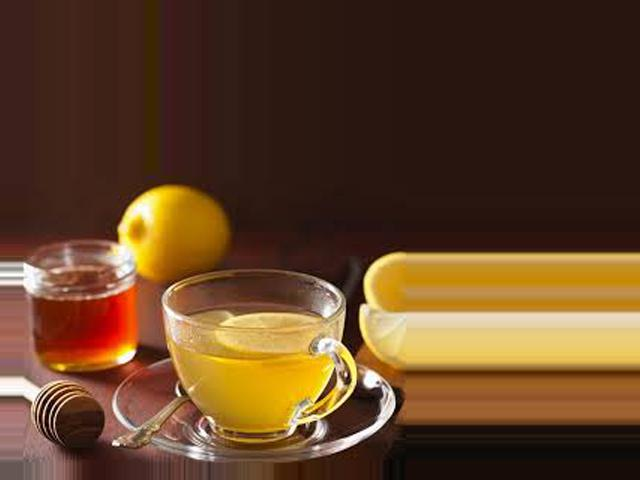lemon: (109, 182, 245, 286)
